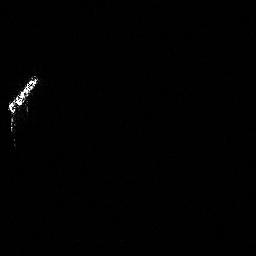ship: (4, 71, 42, 136)
